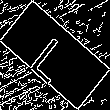L_NE: (29, 26, 81, 84)
